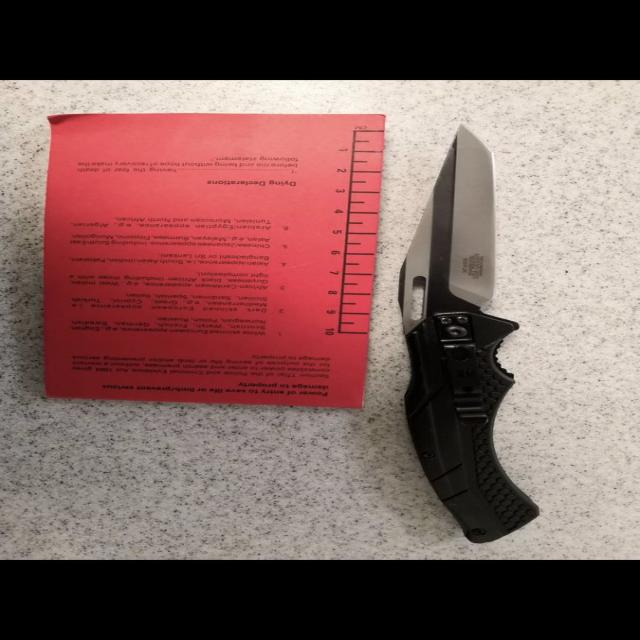Sharp-Object: (398, 123, 542, 544)
